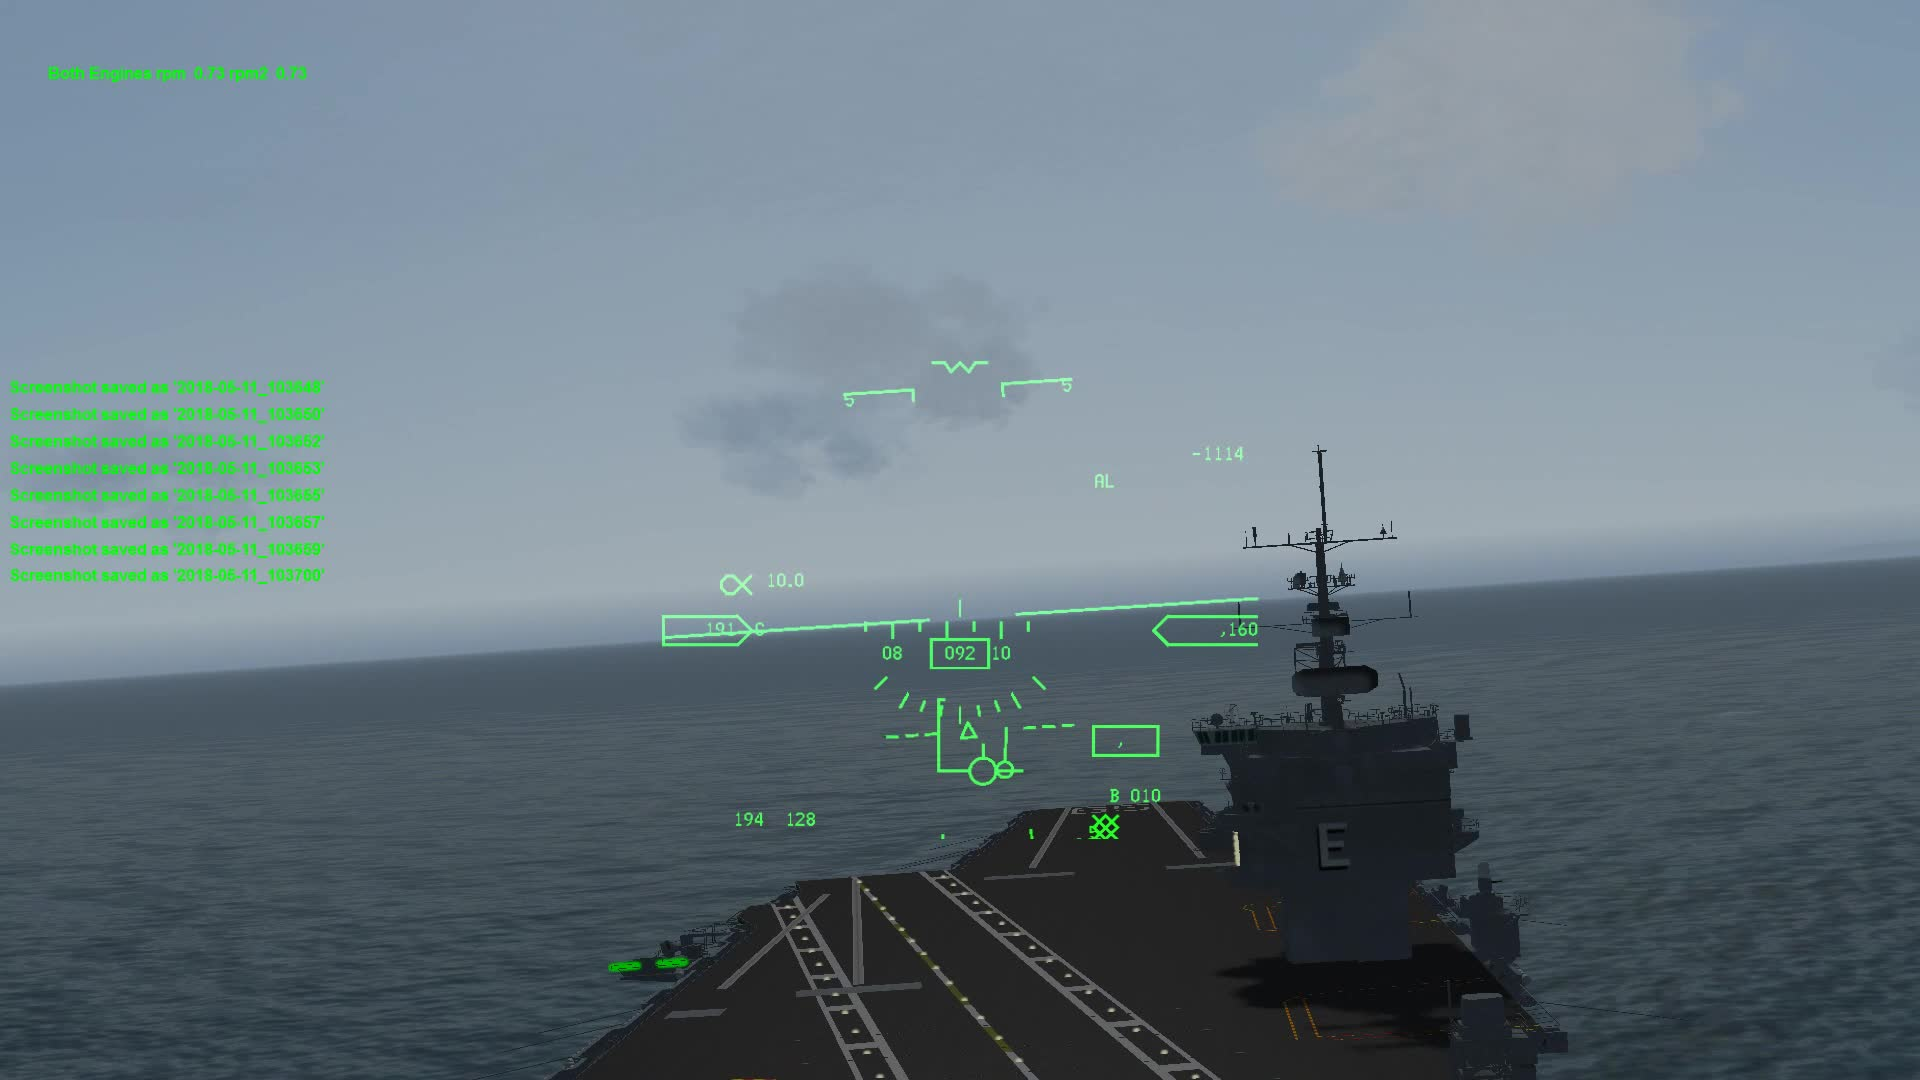speed vector: (942, 738, 1038, 793)
